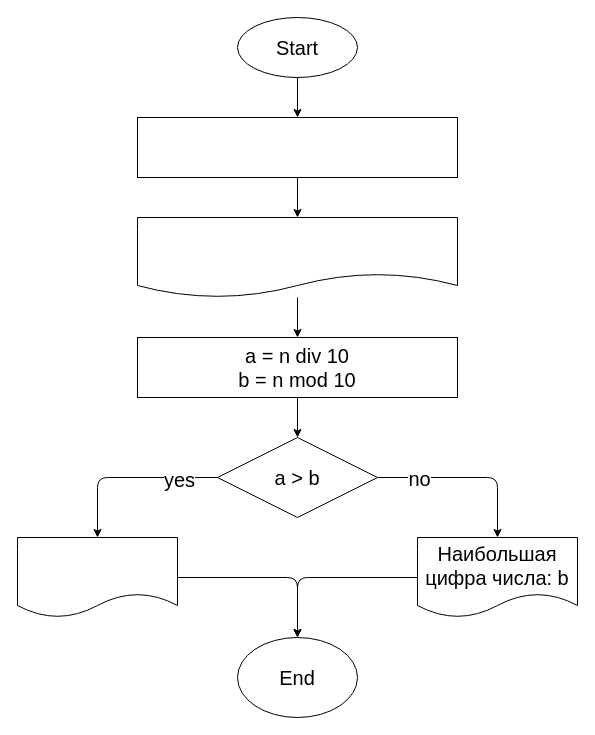
Some shapes in this 595 by 735 pixel diagram are drawn without their labels. Here are the shapes that lost their labels. From the top down, the centre of each, then its label:
At (x=297, y=147): "n = Random(10, 99)".
At (x=297, y=257): "Задумано число n".
At (x=97, y=577): "Наибольшая цифра числа: a".
